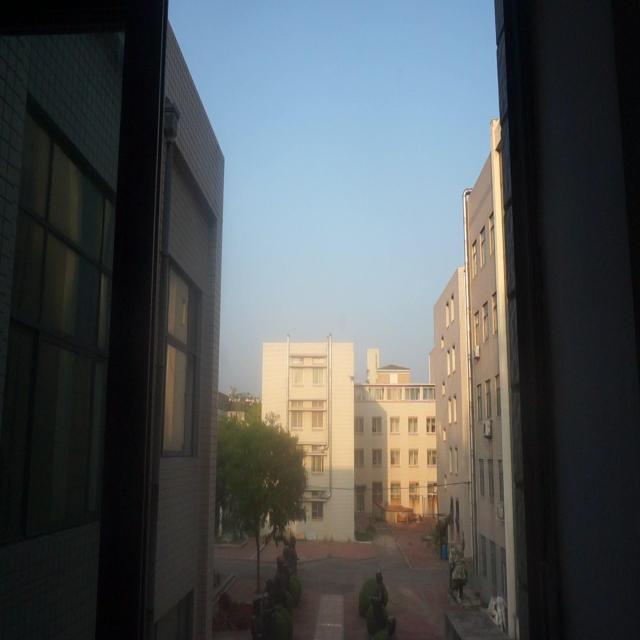drone: (348, 372, 354, 383)
